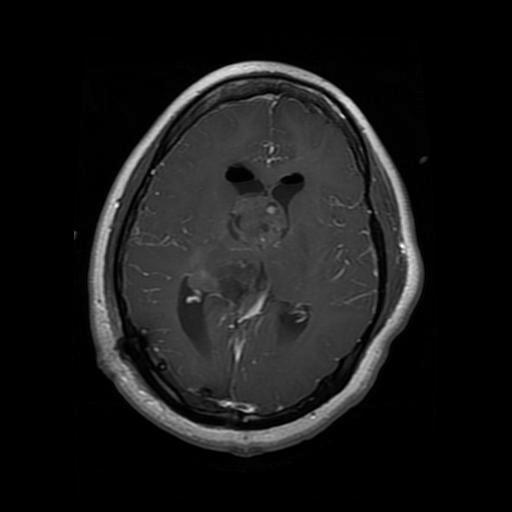Tumour-Glioma: (220, 188, 312, 257)
